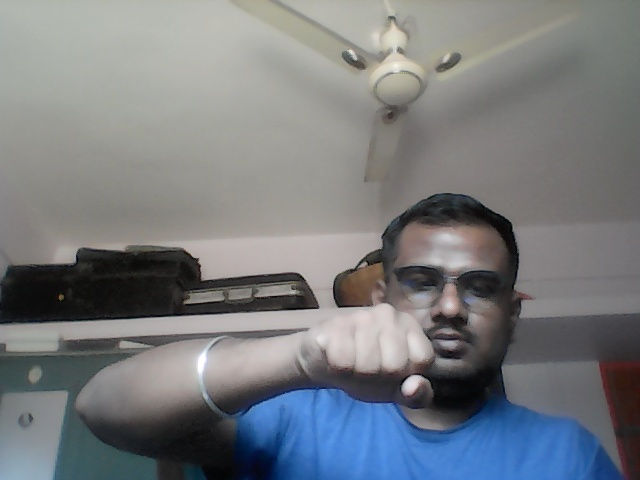Yes: (298, 297, 440, 415)
